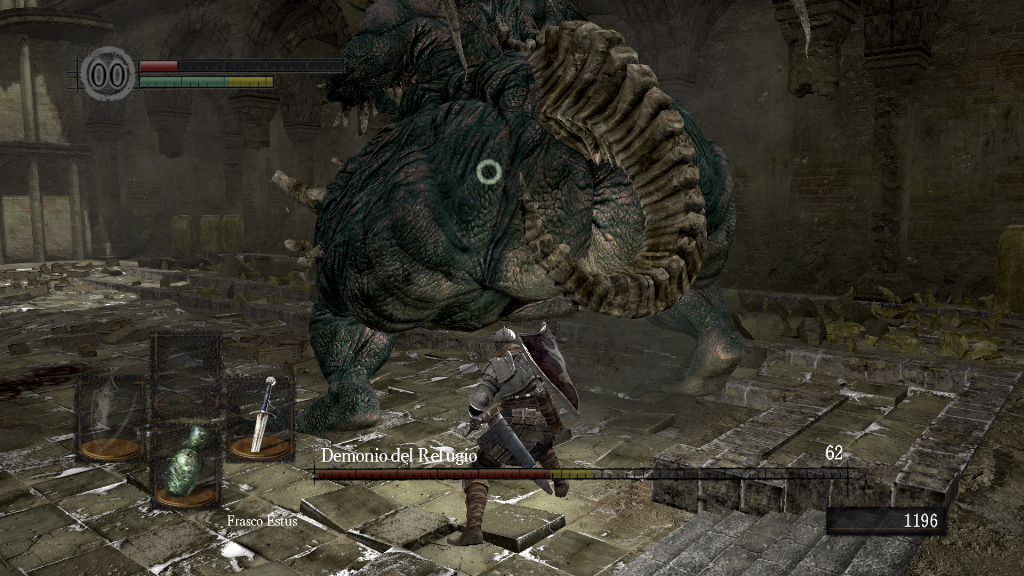asylumDemon: (264, 1, 746, 432)
bossHP: (314, 469, 847, 479)
health: (138, 58, 343, 71)
humanity: (80, 45, 136, 102)
player: (440, 321, 584, 558)
souls: (825, 506, 945, 536)
stamina: (138, 74, 274, 88)
